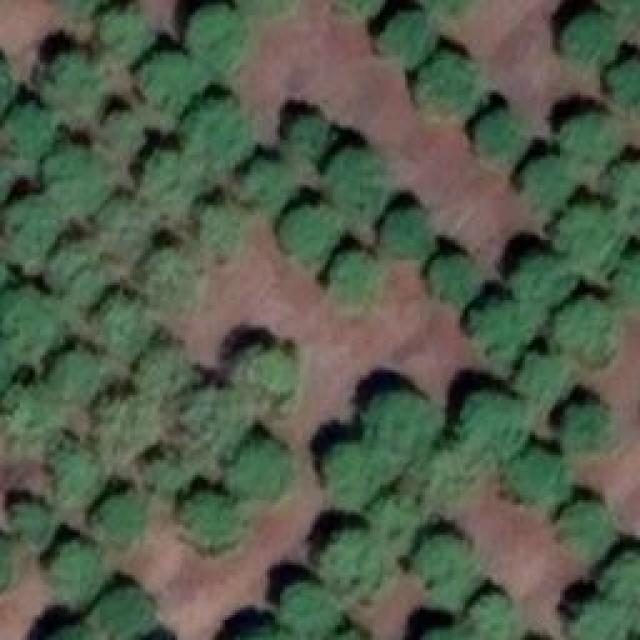Tree: (453, 390, 526, 455), (370, 480, 435, 553), (330, 443, 405, 506), (322, 528, 390, 593), (45, 235, 108, 305), (328, 150, 391, 220), (363, 393, 433, 456), (413, 437, 488, 495), (90, 198, 155, 263), (555, 208, 620, 273), (188, 95, 248, 165), (48, 148, 111, 213), (410, 537, 470, 605), (475, 300, 538, 363), (177, 390, 245, 448), (0, 290, 55, 360), (185, 5, 245, 68), (505, 445, 570, 503), (412, 58, 480, 113), (278, 582, 341, 640), (555, 297, 615, 355), (515, 258, 578, 313), (90, 585, 153, 640), (93, 395, 158, 448), (5, 197, 63, 255), (145, 53, 208, 106), (50, 347, 105, 405), (45, 50, 105, 103), (145, 248, 198, 308), (225, 443, 285, 496), (563, 13, 618, 68), (560, 113, 615, 168), (0, 385, 52, 442), (378, 10, 433, 63), (283, 203, 338, 256), (510, 353, 563, 408), (90, 495, 143, 548), (597, 557, 640, 622), (567, 597, 632, 640), (182, 495, 240, 543), (100, 293, 150, 348), (233, 345, 293, 390), (143, 152, 198, 200), (52, 540, 100, 593), (520, 155, 570, 205), (563, 503, 613, 553), (3, 105, 53, 153), (430, 257, 480, 305), (383, 210, 436, 255), (565, 400, 613, 448), (98, 5, 143, 55), (330, 253, 375, 303), (135, 345, 185, 390), (55, 448, 95, 503), (478, 110, 523, 155), (607, 162, 640, 222), (243, 158, 288, 201), (200, 200, 238, 250), (13, 503, 53, 548), (475, 595, 513, 640), (148, 448, 188, 488), (605, 63, 640, 108), (612, 253, 640, 308), (290, 112, 330, 150)
